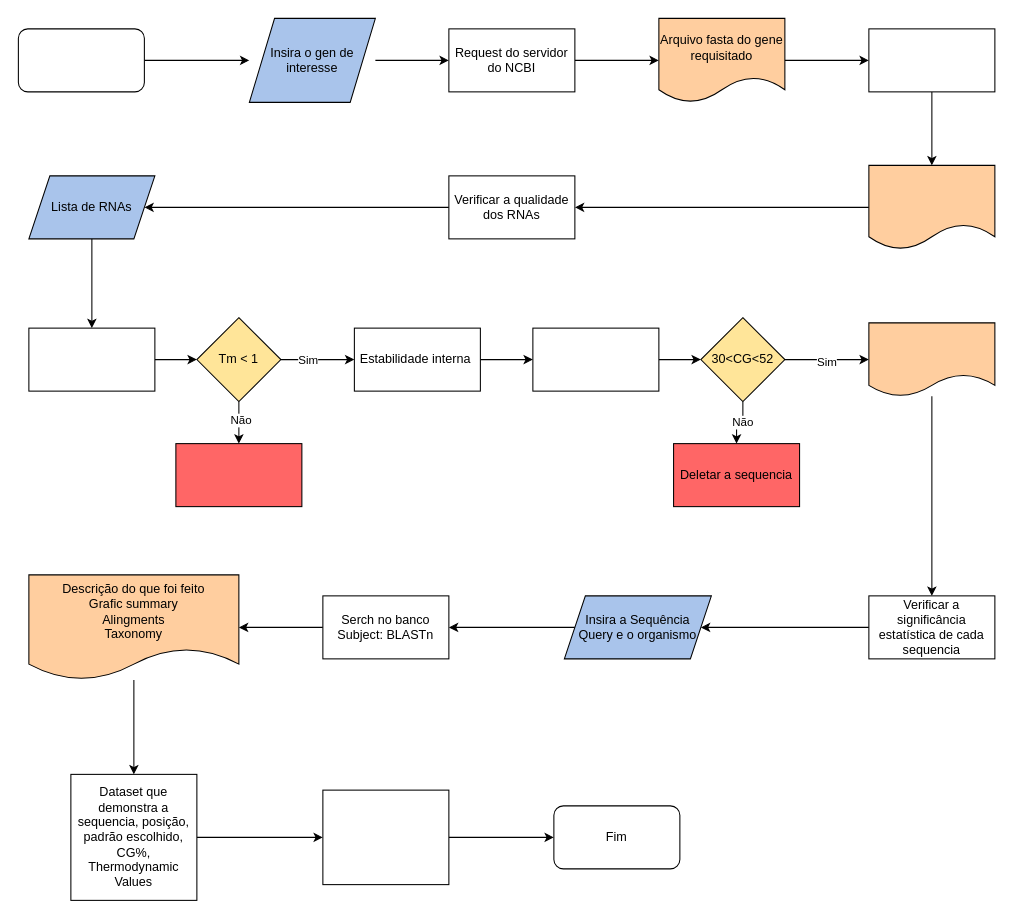
The diagram is 1013 pixels wide and 919 high, and some of its shapes have lost their labels. The centre of each missing label's shape, as x and y in pixels:
Calcular a temperatura de melting: (91,359)
Calcular o conteúdo CG: (595,359)
Dataset que demonstra o Max score, Total Score, Query cover e expect value: (385,837)
Deletar sequência: (238,475)
Inicio: (80,60)
Sequencias Funcionais: (931,359)
Sequências de RNA candidatas: (931,206)
Transcrever para RNA e encontrar os padrões de siRNA: (931,60)
